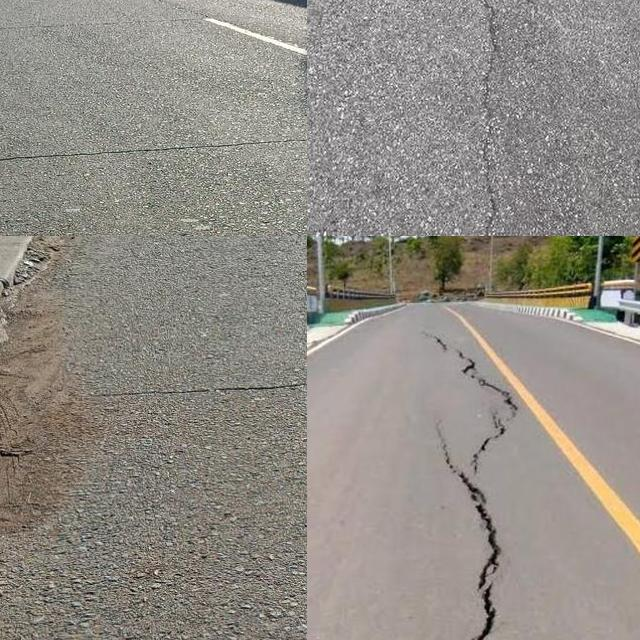Melintang: (0, 123, 307, 172), (43, 371, 307, 418)
Memanjang: (421, 332, 526, 640), (465, 0, 518, 236)
